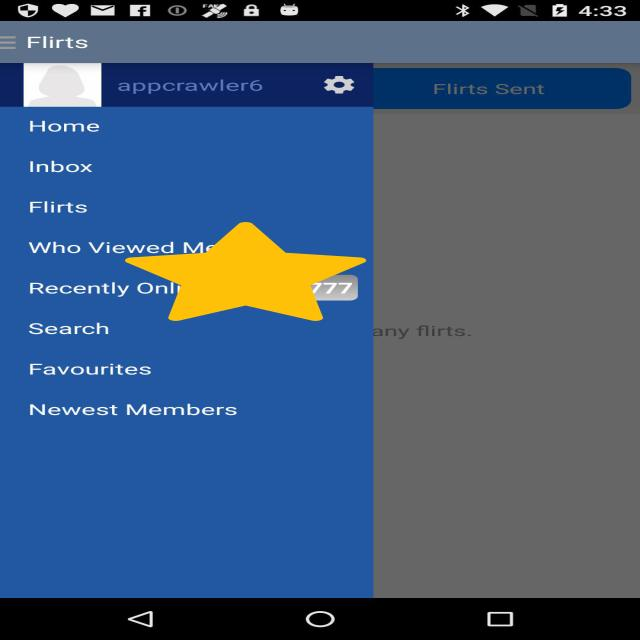forced continuity: (125, 222, 366, 321)
